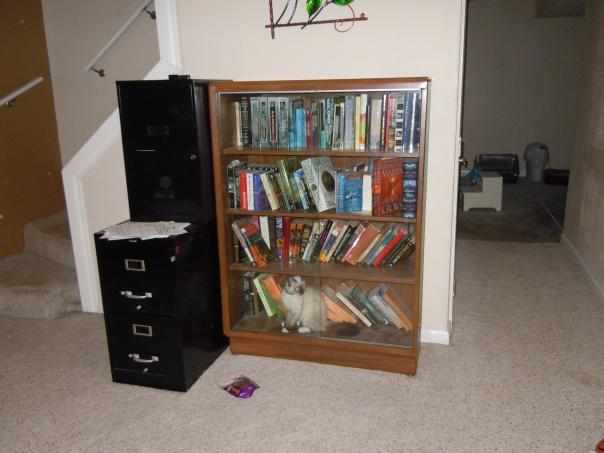Filing Cabinet: (94, 233, 187, 392)
Rak: (208, 77, 431, 375)
